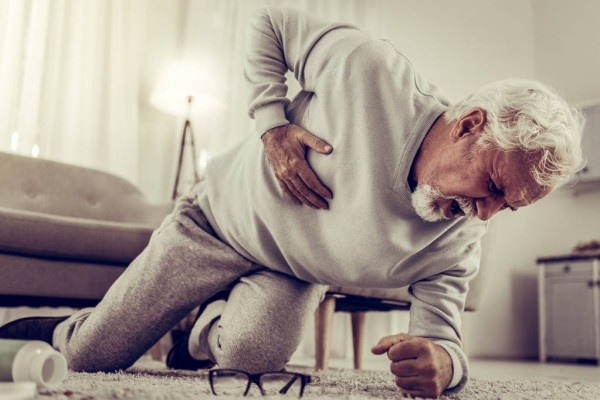fall: (51, 3, 596, 398)
